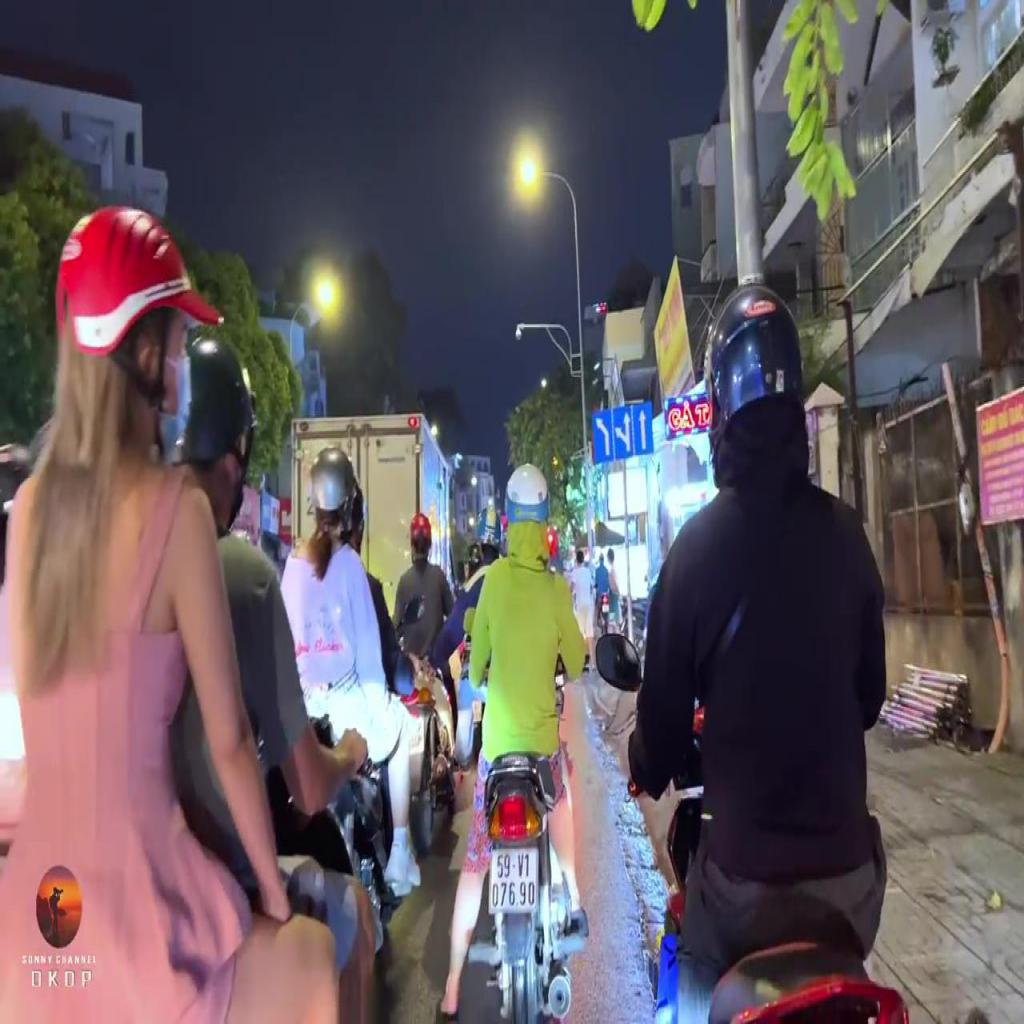huong_di_tren_moi_lan_duong_theo_vach_ke_duong: (590, 401, 654, 467)
